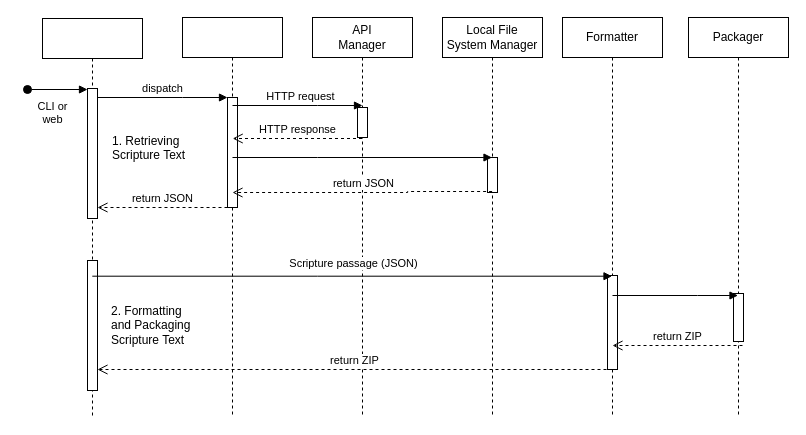
The diagram is 806 pixels wide and 435 high, and some of its shapes have lost their labels. Here are the shapes that lost their labels. From the top down, the box of each, then its label:
(42, 18, 142, 418): Request Handler
(182, 16, 282, 418): Query Handler
